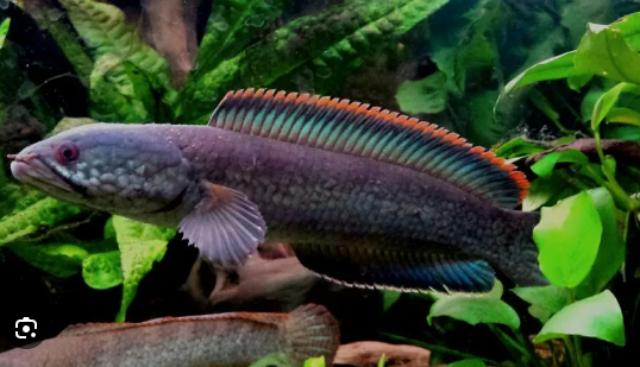Mulut: (7, 142, 91, 208)
Sirip Anal: (286, 236, 500, 302)
Sirip Dada: (178, 169, 270, 279)
Sirip Punggung: (206, 86, 534, 210)
